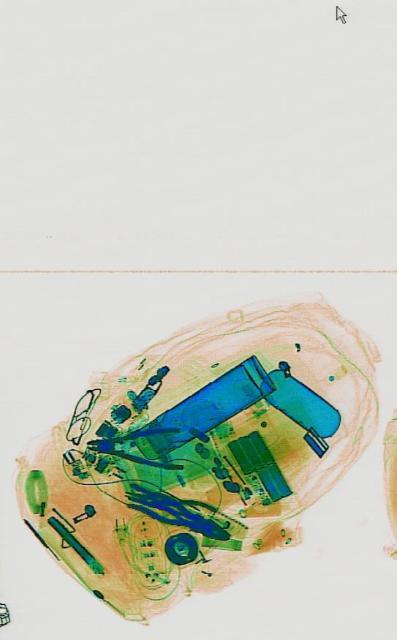Pliers: (123, 478, 230, 546), (86, 422, 182, 468), (125, 482, 214, 528)
